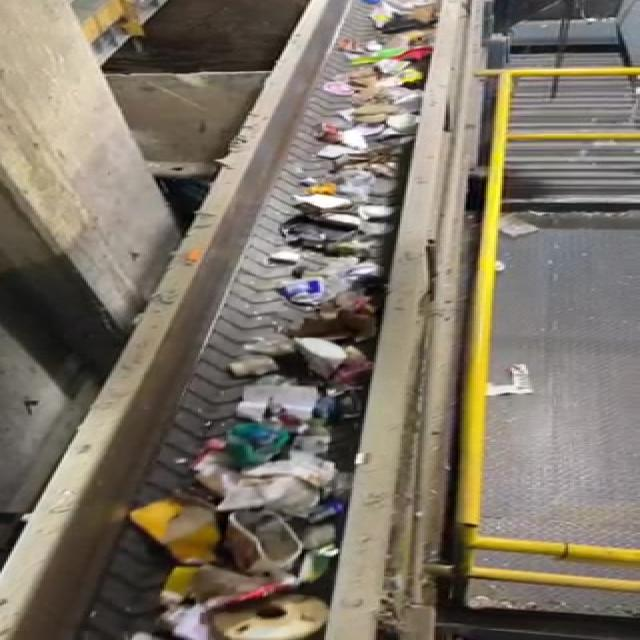paper: (121, 498, 226, 572)
